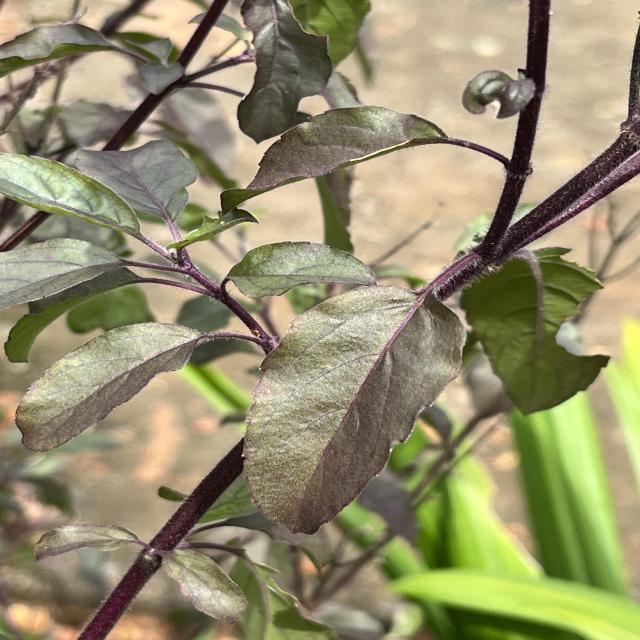Ocimum tenuiflorum: (240, 284, 470, 541)
